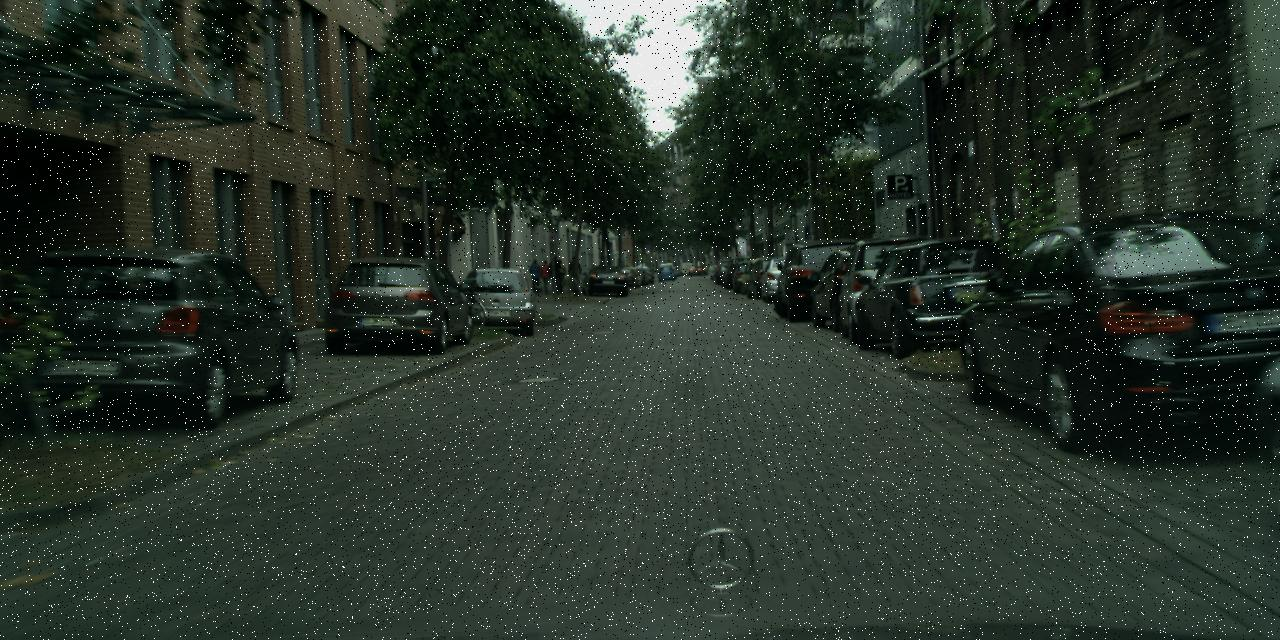ped: (548, 255, 562, 290), (528, 259, 541, 292), (539, 260, 552, 292), (553, 260, 566, 290), (568, 256, 580, 286)
